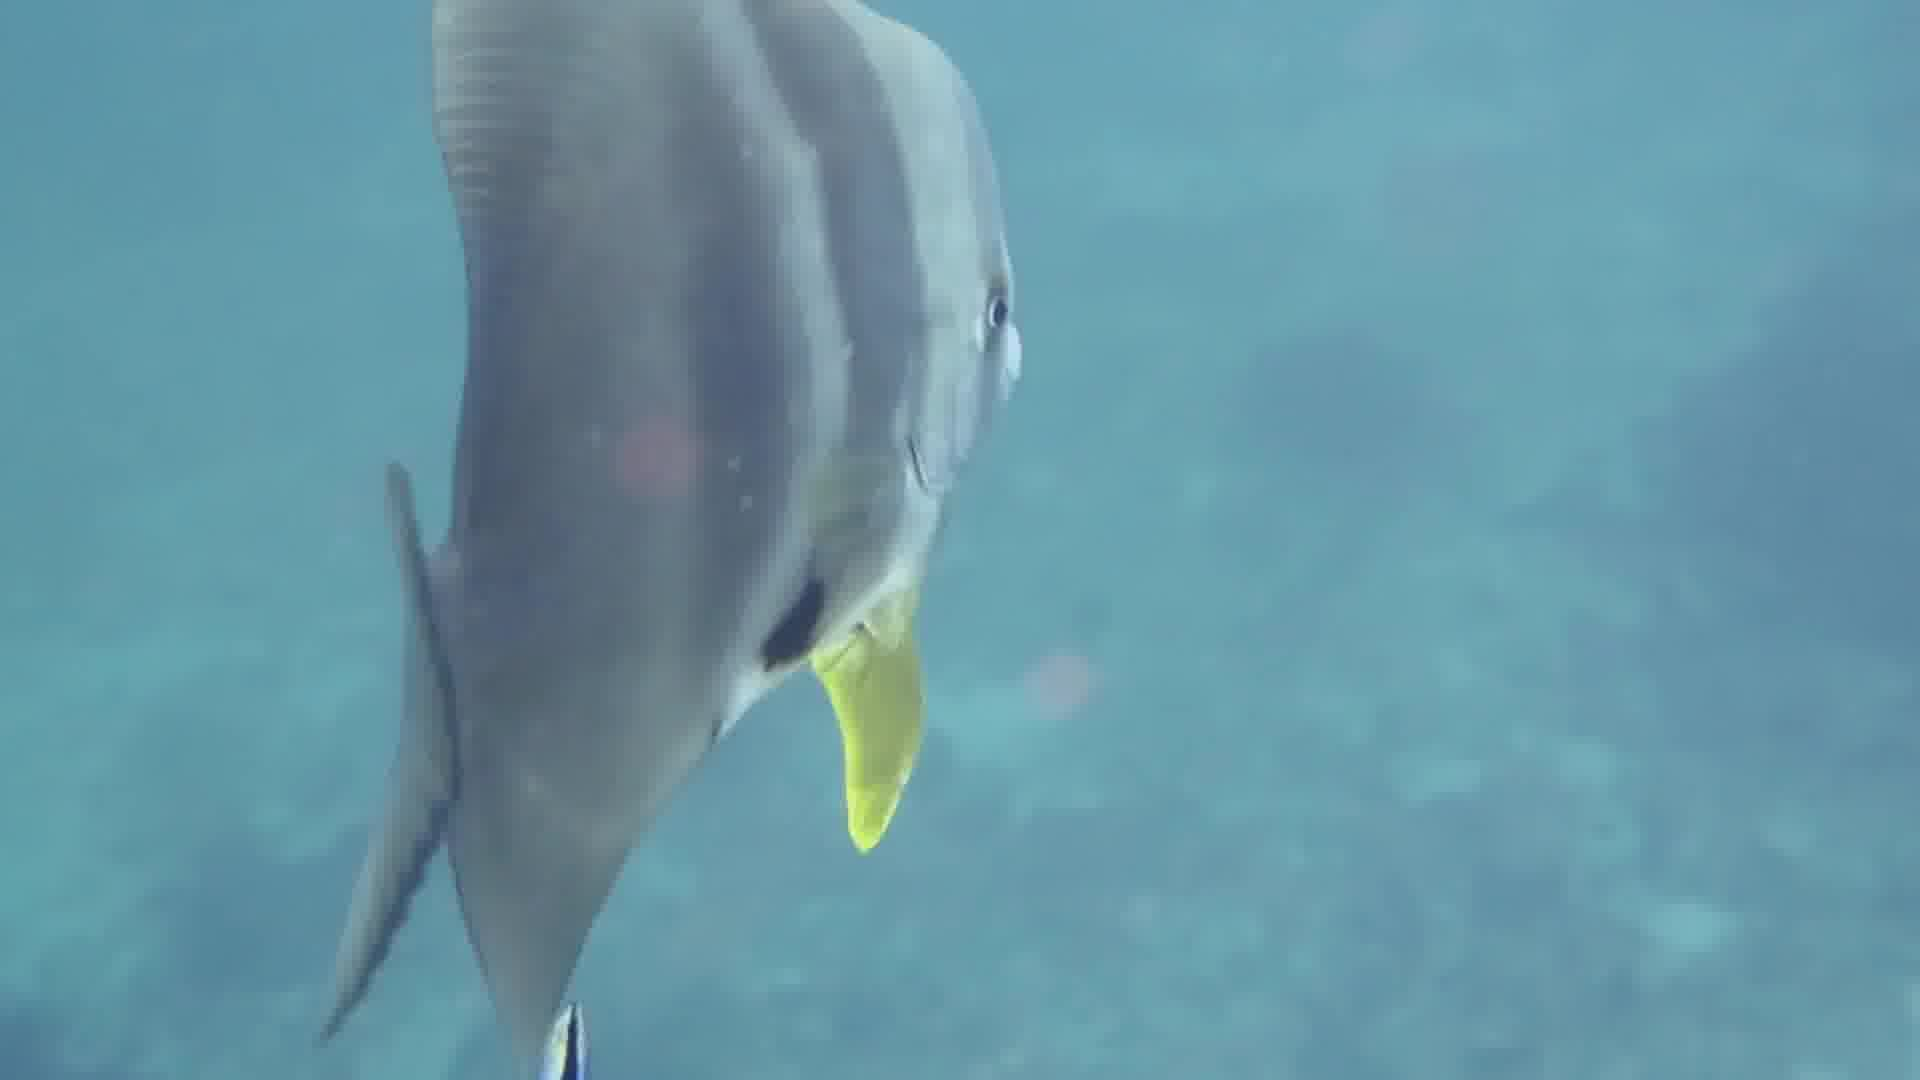Platax teira: (220, 1, 1065, 1080)
